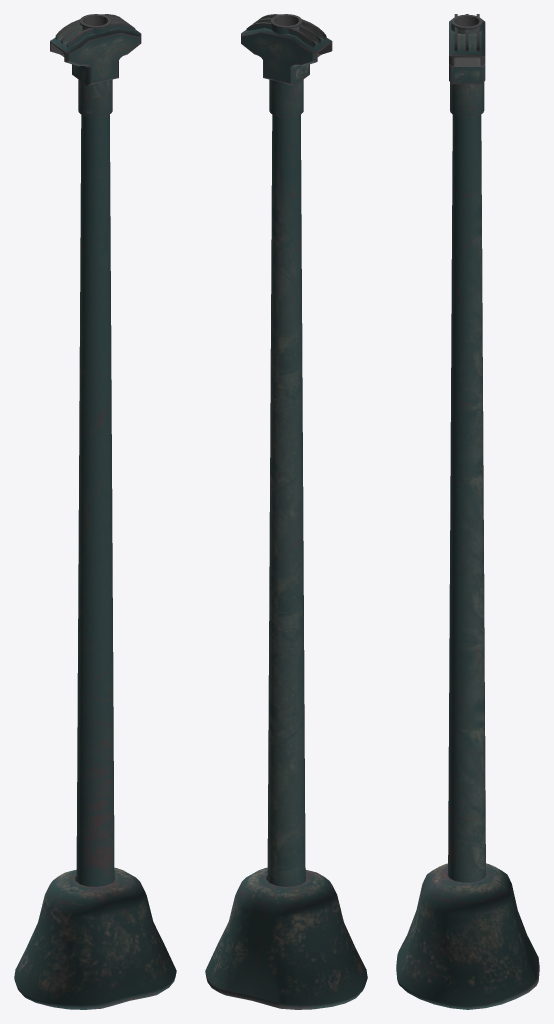
The model's file is Gun_03.glb.
3 renders of one model, left to right at view 1: azimuth 30°, elevation 25°; view 2: azimuth 150°, elevation 25°; view 3: azimuth 270°, elevation 25°, orthographic.
Parts seen in each view (by area): view 1: set_0_group_0; view 2: set_0_group_0; view 3: set_0_group_0.
Boxes of the visible parts, x1,y1,x2,y2 form: set_0_group_0: [14, 14, 176, 1009]; set_0_group_0: [205, 14, 367, 1009]; set_0_group_0: [396, 14, 539, 1009].
Bounding box in the file's own units: 0.9226 × 5.92 × 0.8045.
Materials: 1 (1 with a texture image).
